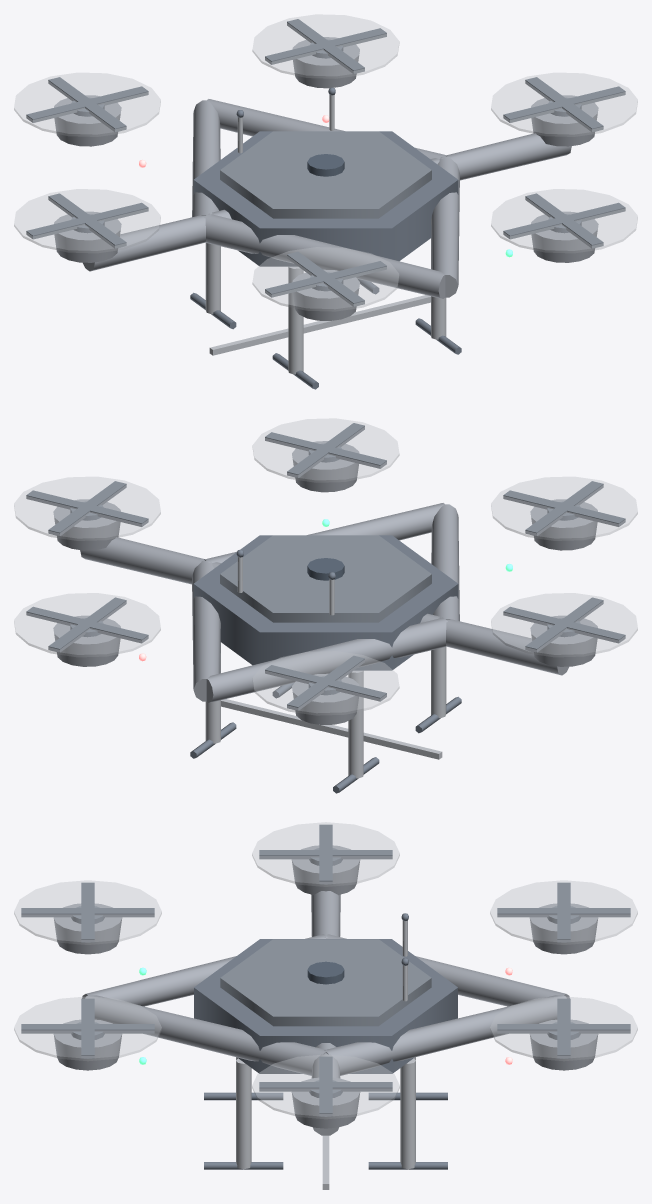
File: hexacopter.glb
3 renders of one model, top to bottom at view 1: azimuth 30°, elevation 25°; view 2: azimuth 150°, elevation 25°; view 3: azimuth 270°, elevation 25°, orthographic.
Bounding box in the file's own units: 1.32 × 0.416 × 1.18.
